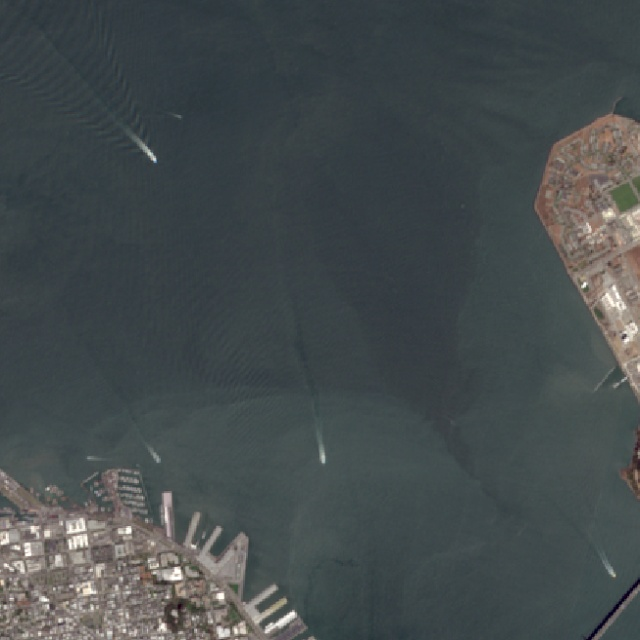wake: (21, 14, 194, 192)
